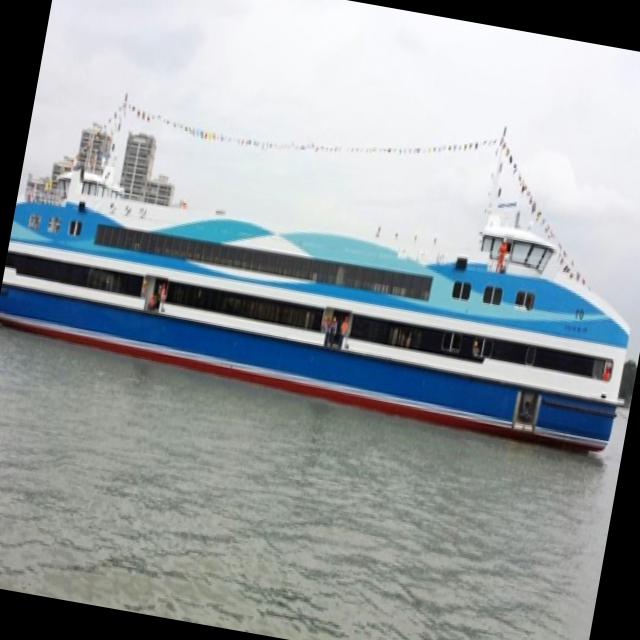Passenger: (0, 112, 629, 450)
